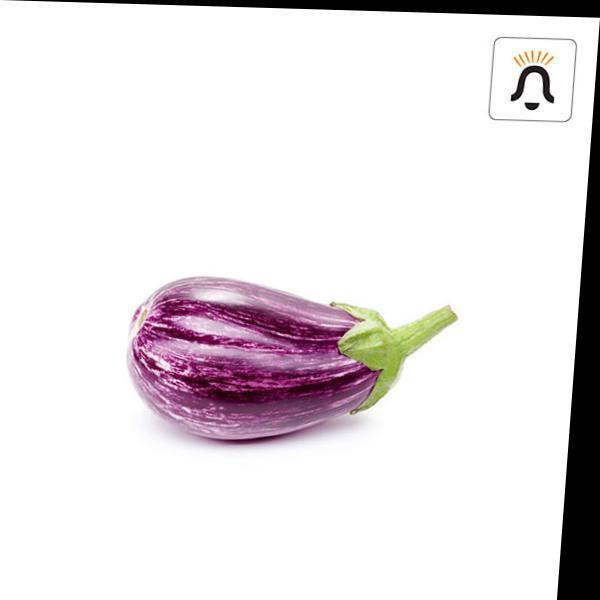eggplant: (109, 234, 510, 467)
